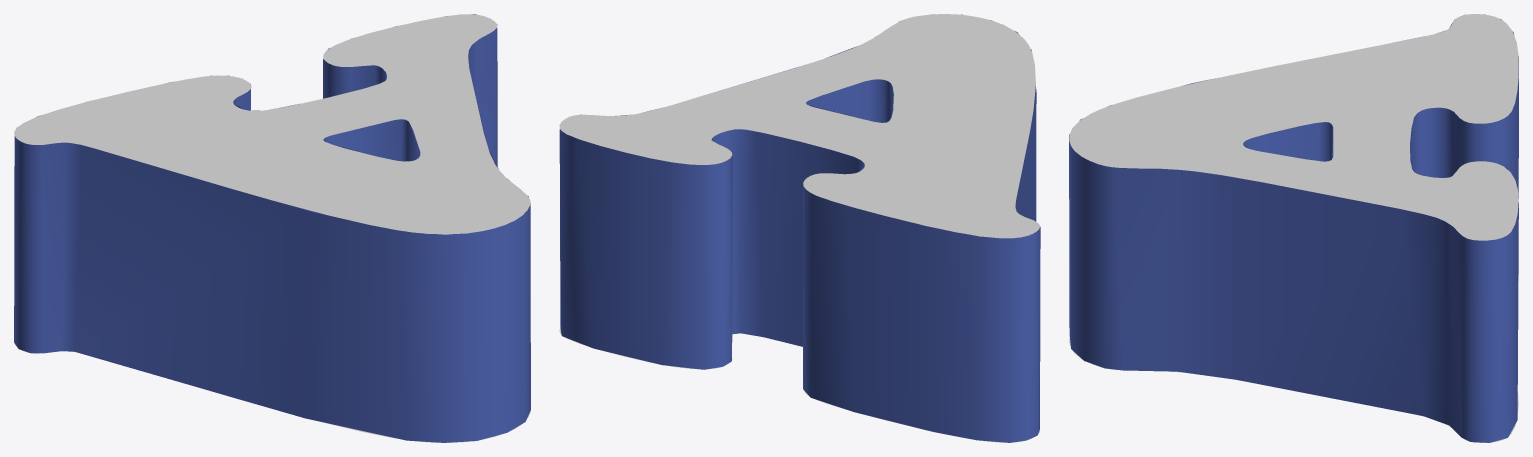
The picture shows the model from 3 angles, left to right: view 1: azimuth 30°, elevation 25°; view 2: azimuth 150°, elevation 25°; view 3: azimuth 270°, elevation 25°; orthographic projection. The views are drawn at different scales.
Parts seen in each view (by area): view 1: A; view 2: A; view 3: A.
Part boxes in pixels (left/top/right/bottom): A: left=14, top=14, right=530, bottom=442; A: left=559, top=14, right=1040, bottom=442; A: left=1069, top=14, right=1518, bottom=442.
Size of the model in its own units: 1.77 by 0.7361 by 1.48.
